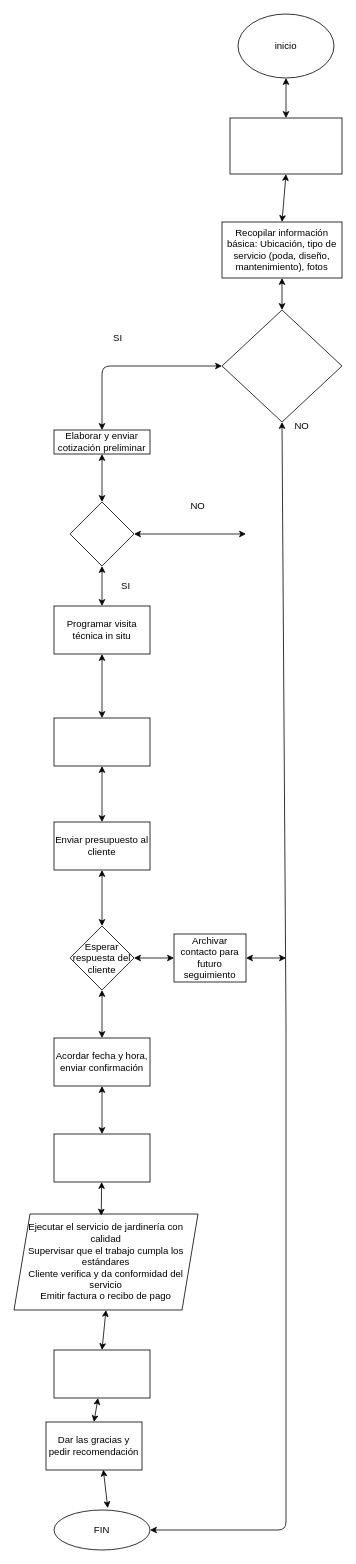
Some shapes in this 356 by 1564 pixel diagram are drawn without their labels. Each missing label, with the centre of its shape:
"Cliente realiza el PAGO" belongs at point (101, 1373).
"Cliente se contacta vía WhatsApp, Teléfono, Redes o Web" belongs at point (285, 145).
"Elaborar presupuesto final detallado y plazo de ejecución" belongs at point (101, 741).
"Preparar equipo, materiales y personal" belongs at point (101, 1157).
"¿Cliente interesado?" belongs at point (101, 533).
"¿Es suficiente la info para una cotización preliminar?" belongs at point (281, 365).
